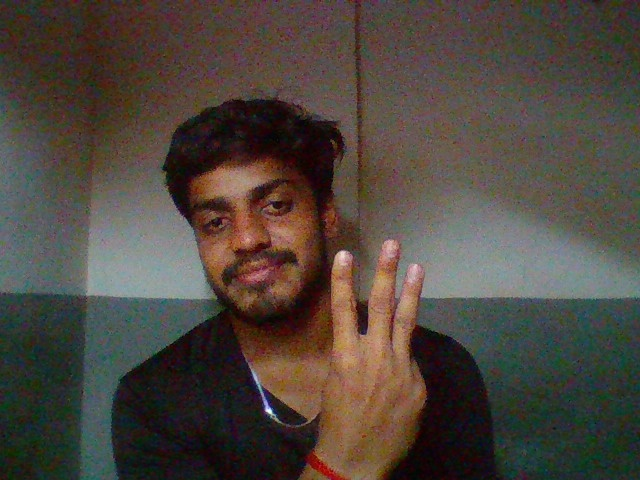W: (313, 224, 446, 477)
